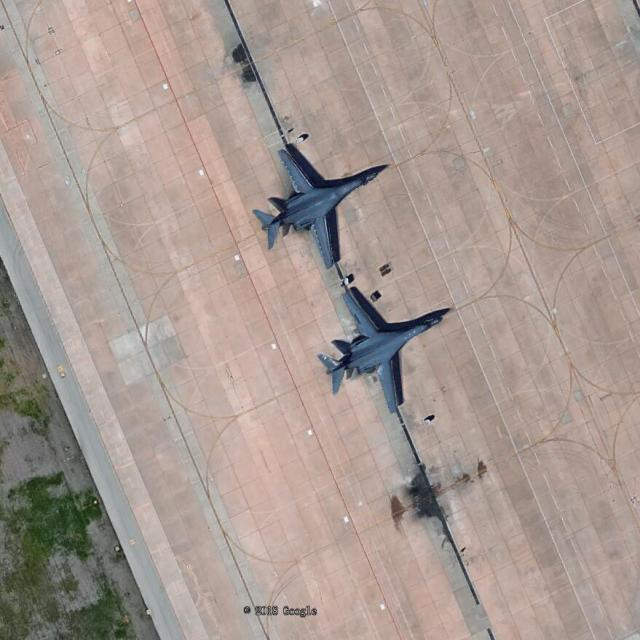fighter jet: (259, 130, 375, 262), (314, 296, 455, 402)
